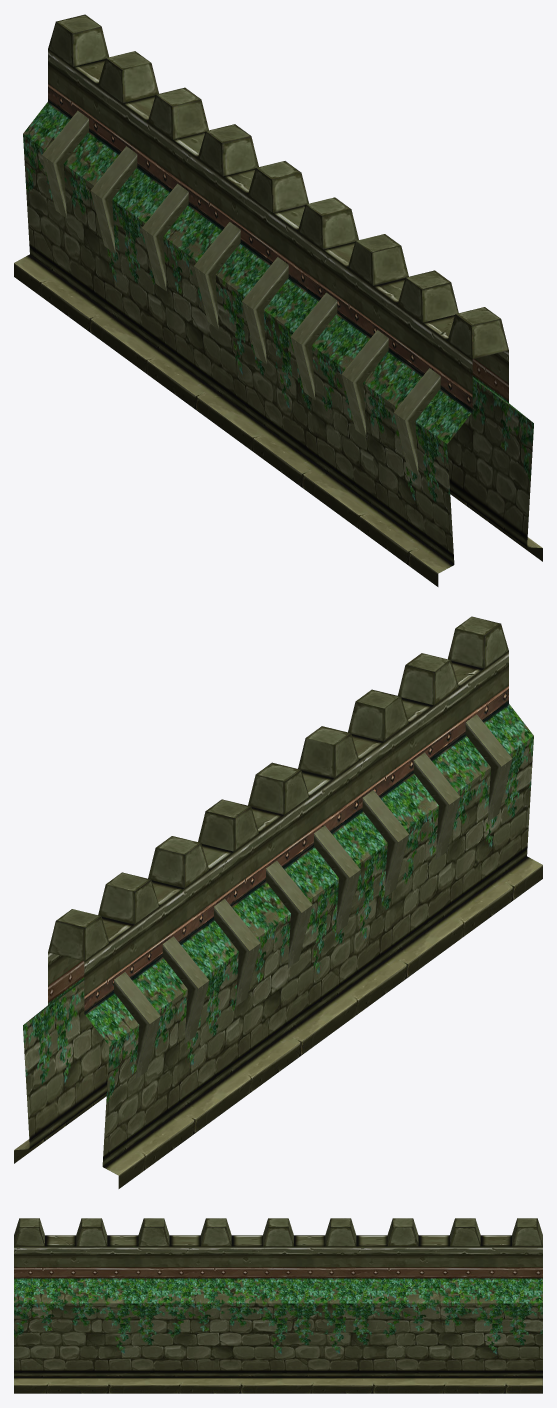
Rendered from wall_b.obj.
The picture shows the model from 3 angles, top to bottom: view 1: azimuth 30°, elevation 25°; view 2: azimuth 150°, elevation 25°; view 3: azimuth 270°, elevation 25°; orthographic projection. The views are drawn at different scales.
Size of the model in its own units: 4.3 by 9.65 by 29.8.
1 material, 1 textured.
